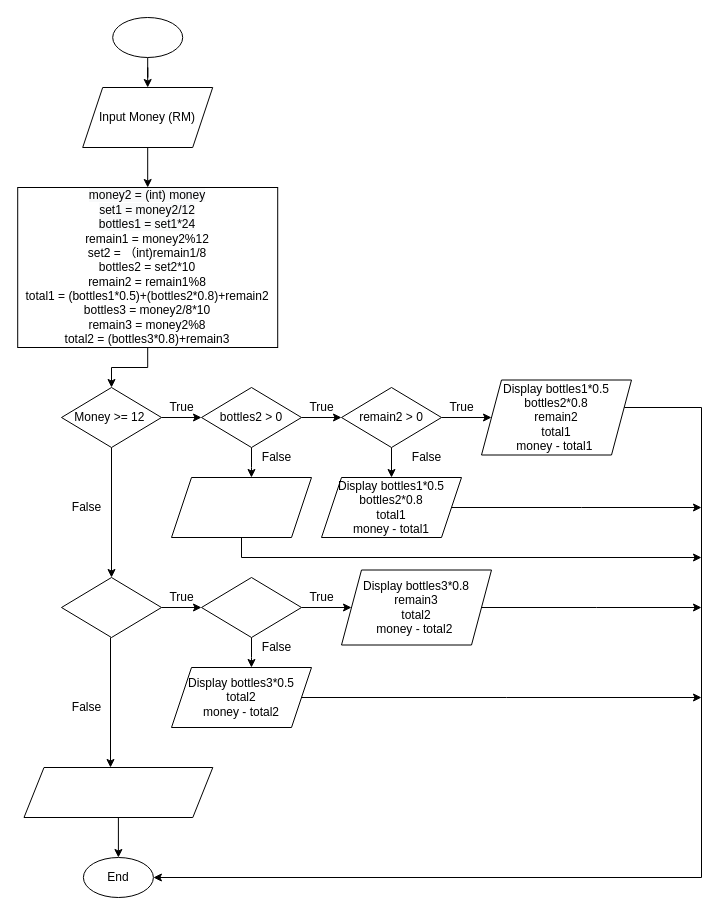
Image size: 727x915. Some labels were removed from this diagram. Each missing label, with the centre of its shape:
"Display (double)money2 (double)money2 money - (double)money2" goes at (118,792).
"Display bottles1*0.5 remain2 total1 money - total1" goes at (241,507).
"Money >= 8" goes at (111,607).
"remain3 > 0" goes at (251,607).
"Start" goes at (147,37).
